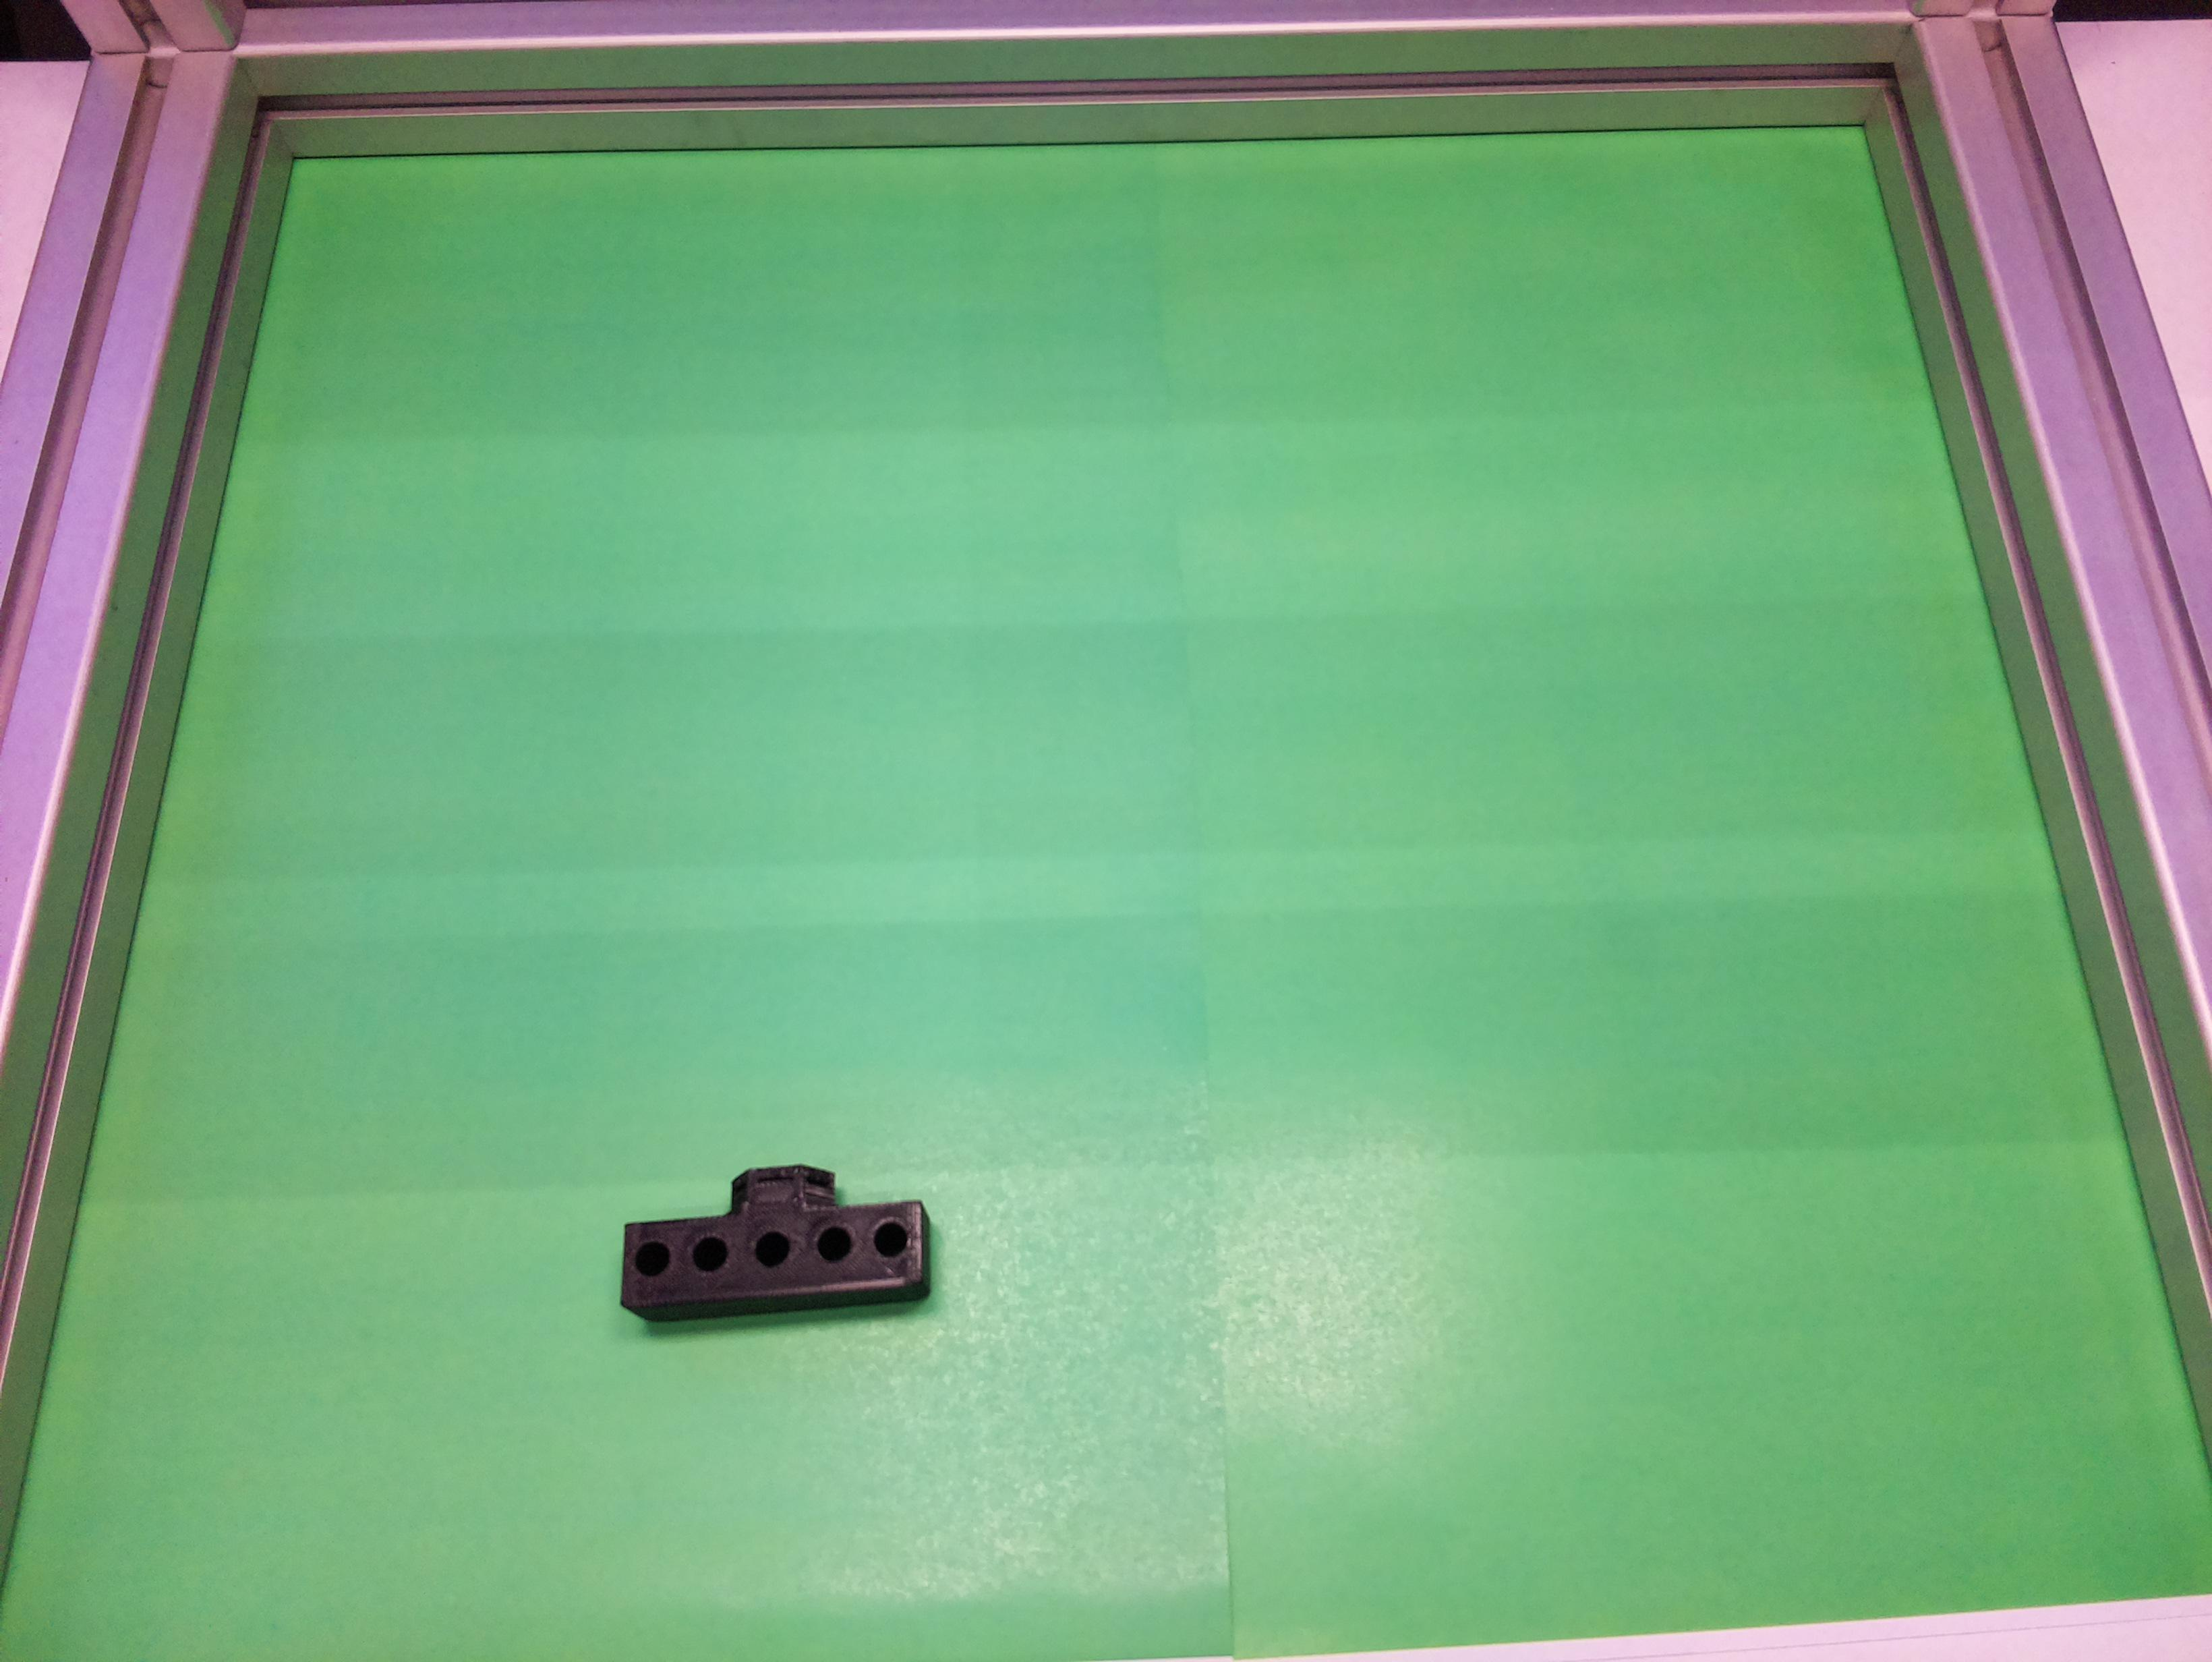bit_holder: (611, 1154, 938, 1327)
